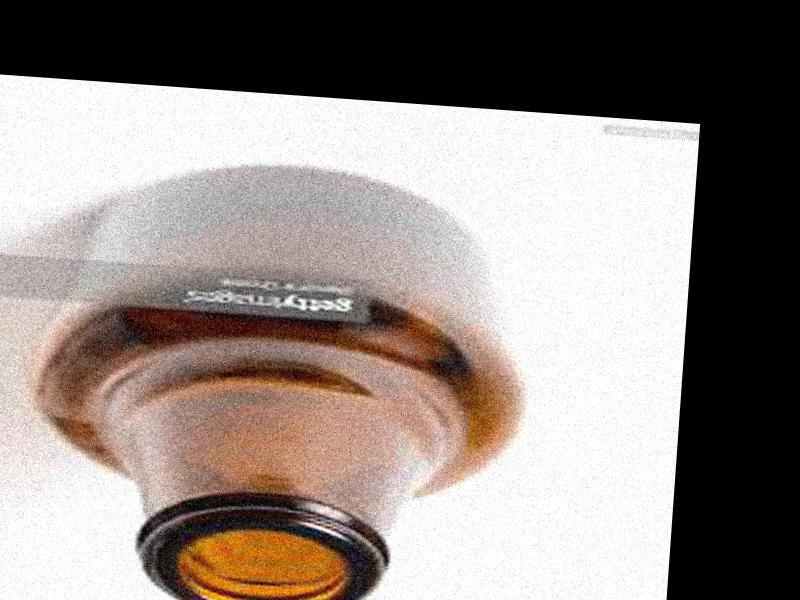Beer: (12, 147, 537, 600)
